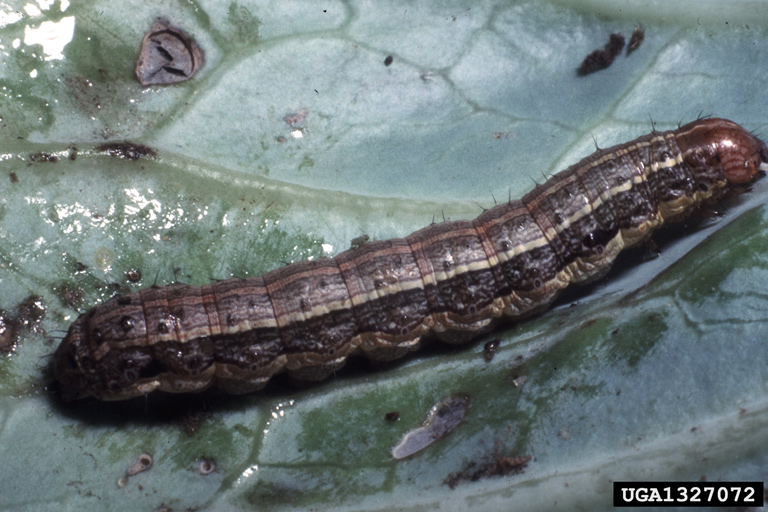Armyworm: (64, 96, 768, 429)
